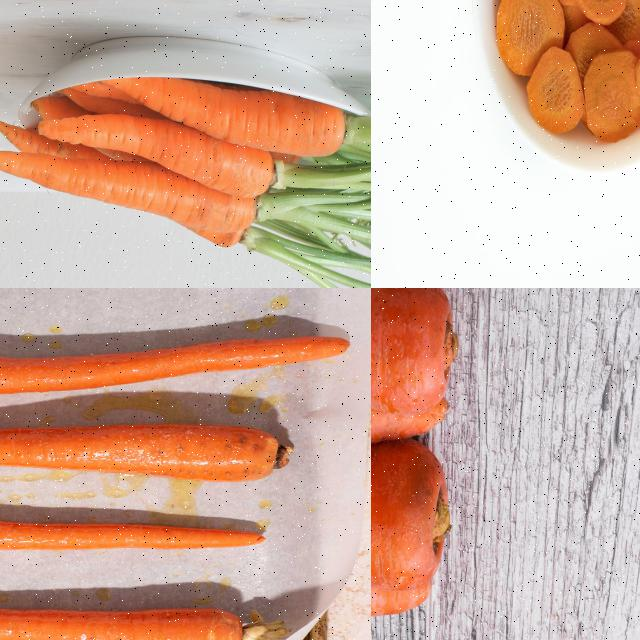carrot: (0, 75, 346, 254), (0, 331, 352, 401), (484, 0, 639, 156), (0, 419, 282, 483), (0, 500, 266, 553), (371, 430, 449, 589), (371, 336, 452, 483), (371, 288, 469, 407), (0, 603, 253, 639)
